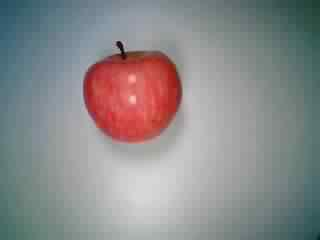apple: (79, 41, 184, 143)
